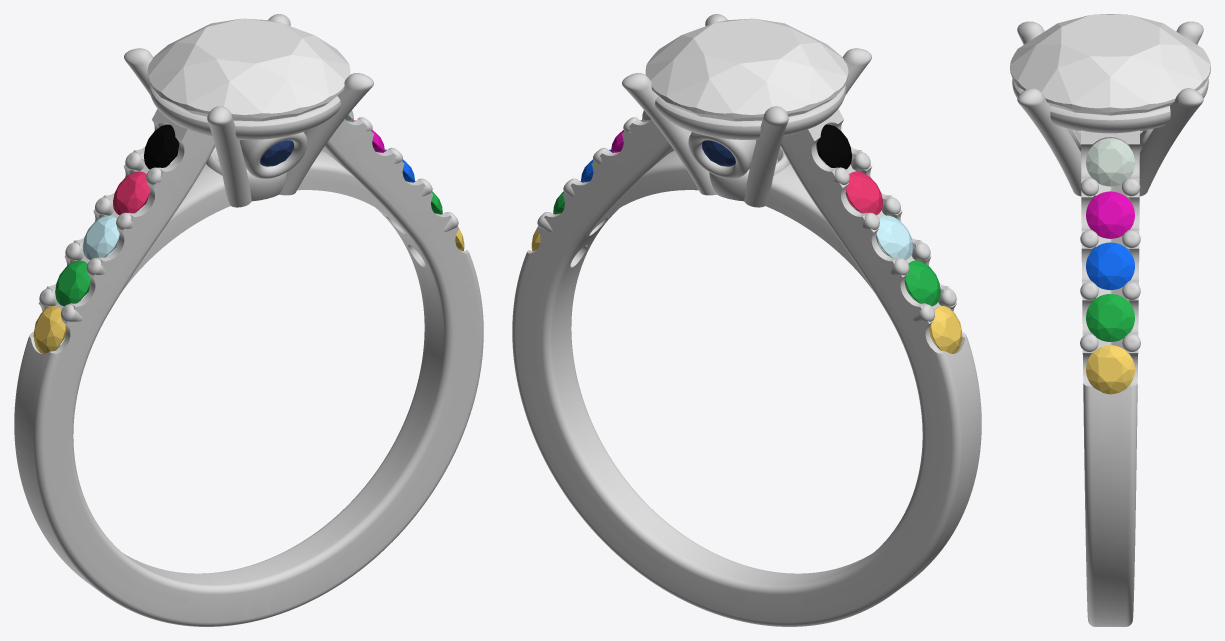
File: JamesPTengCathedral.glb
3 views of the same model, side by side, from view 1: azimuth 30°, elevation 25°; view 2: azimuth 150°, elevation 25°; view 3: azimuth 270°, elevation 25° (orthographic).
Parts seen in each view (by area): view 1: James PT for 3d model, James dia for 3d model, James aqua for 3d model, James jade for 3d model, James ruby for 3d model, James black dia for 3d model, James spessartine garnet for 3d model; view 2: James PT for 3d model, James dia for 3d model, James aqua for 3d model, James jade for 3d model, James ruby for 3d model, James black dia for 3d model, James spessartine garnet for 3d model; view 3: James PT for 3d model, James dia for 3d model, James orange topaz for 3d model, James labradorite for 3d model, James tsavorite for 3d model, James sapph for 3d model, James pink tourmaline for 3d model.
Part boxes in pixels (bbox=[...]): James PT for 3d model: bbox=[14, 14, 483, 626]; James dia for 3d model: bbox=[147, 18, 350, 140]; James aqua for 3d model: bbox=[82, 215, 119, 260]; James jade for 3d model: bbox=[55, 260, 90, 306]; James ruby for 3d model: bbox=[113, 171, 150, 215]; James black dia for 3d model: bbox=[144, 124, 179, 169]; James spessartine garnet for 3d model: bbox=[33, 306, 66, 353]; James PT for 3d model: bbox=[512, 14, 981, 626]; James dia for 3d model: bbox=[645, 18, 848, 140]; James aqua for 3d model: bbox=[876, 215, 913, 260]; James jade for 3d model: bbox=[905, 260, 940, 306]; James ruby for 3d model: bbox=[845, 171, 882, 215]; James black dia for 3d model: bbox=[816, 124, 852, 169]; James spessartine garnet for 3d model: bbox=[929, 306, 962, 353]; James PT for 3d model: bbox=[1012, 21, 1208, 626]; James dia for 3d model: bbox=[1010, 14, 1210, 115]; James orange topaz for 3d model: bbox=[1086, 345, 1134, 394]; James labradorite for 3d model: bbox=[1086, 138, 1134, 186]; James tsavorite for 3d model: bbox=[1086, 294, 1134, 341]; James sapph for 3d model: bbox=[1086, 242, 1134, 290]; James pink tourmaline for 3d model: bbox=[1086, 191, 1134, 238].
Bounding box in the file's own units: 20.94 × 25.58 × 8.2.
